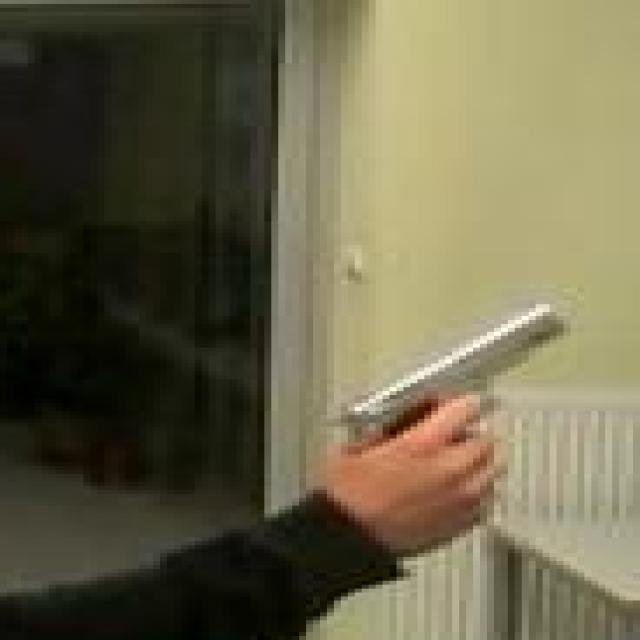Guns: (292, 289, 593, 524)
